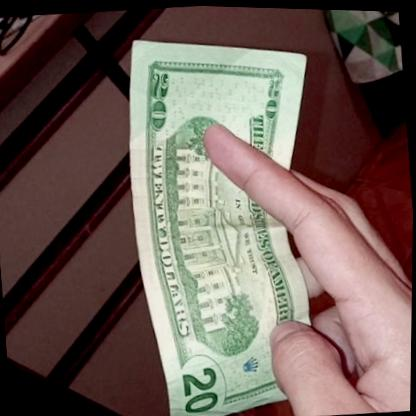twenty-back: (109, 23, 334, 416)
